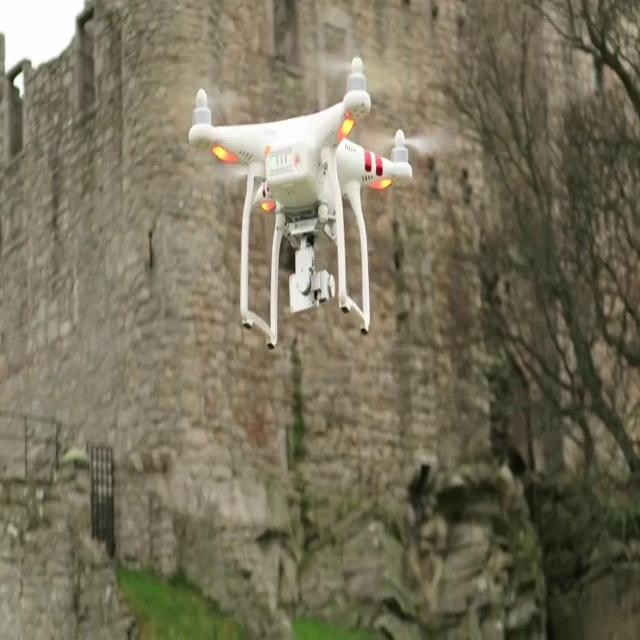drone: (187, 52, 414, 352)
